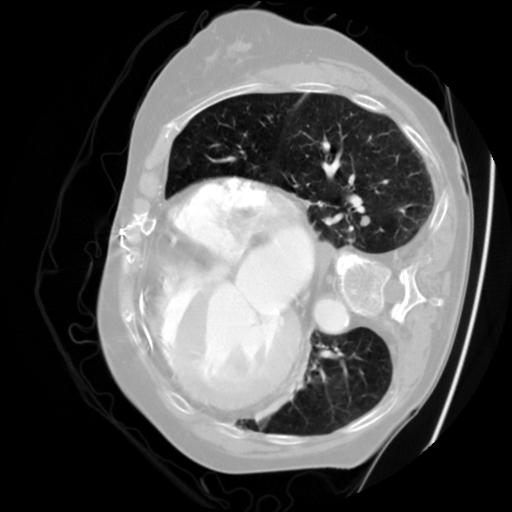nodule: (356, 210, 375, 229)
